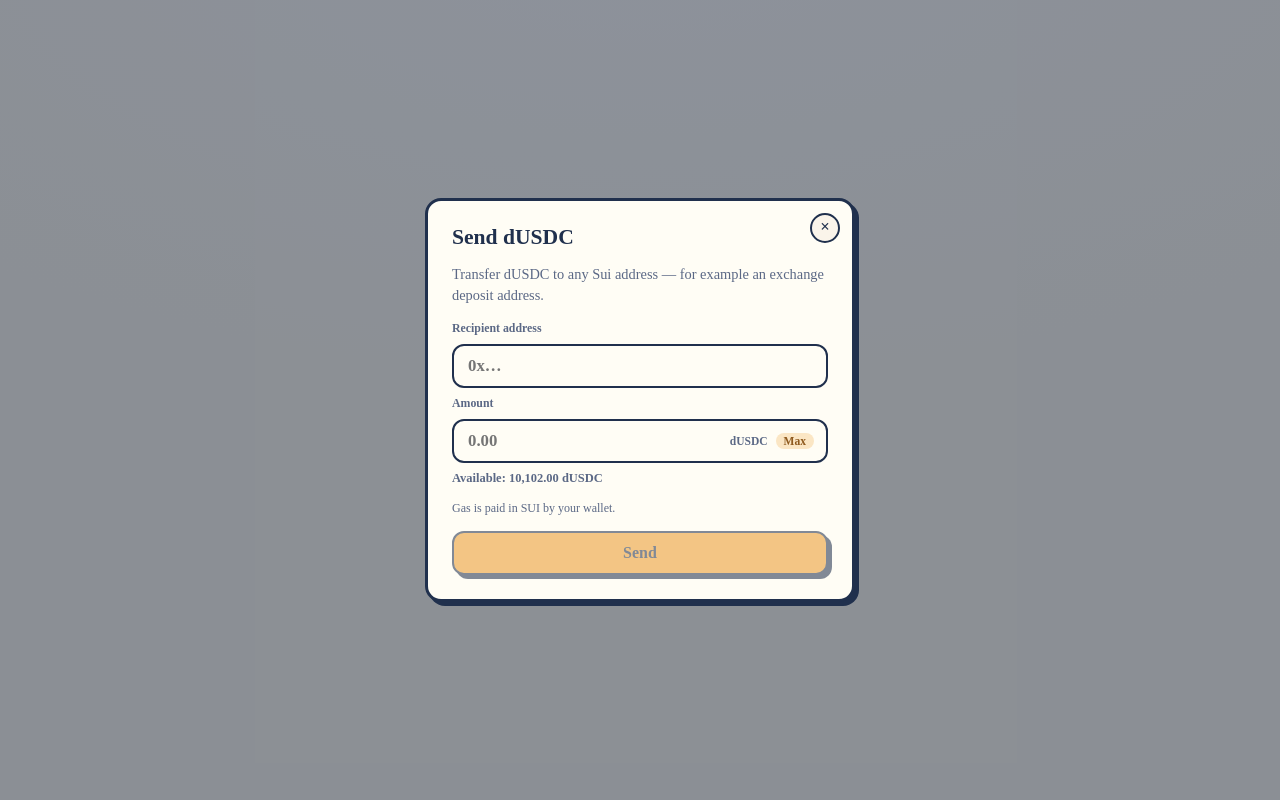
Scenario: SendDialog form › fills the exact Available balance via Max and via the balance hint
Click the button "Max" at x=795, y=441, box [776,433,814,449]
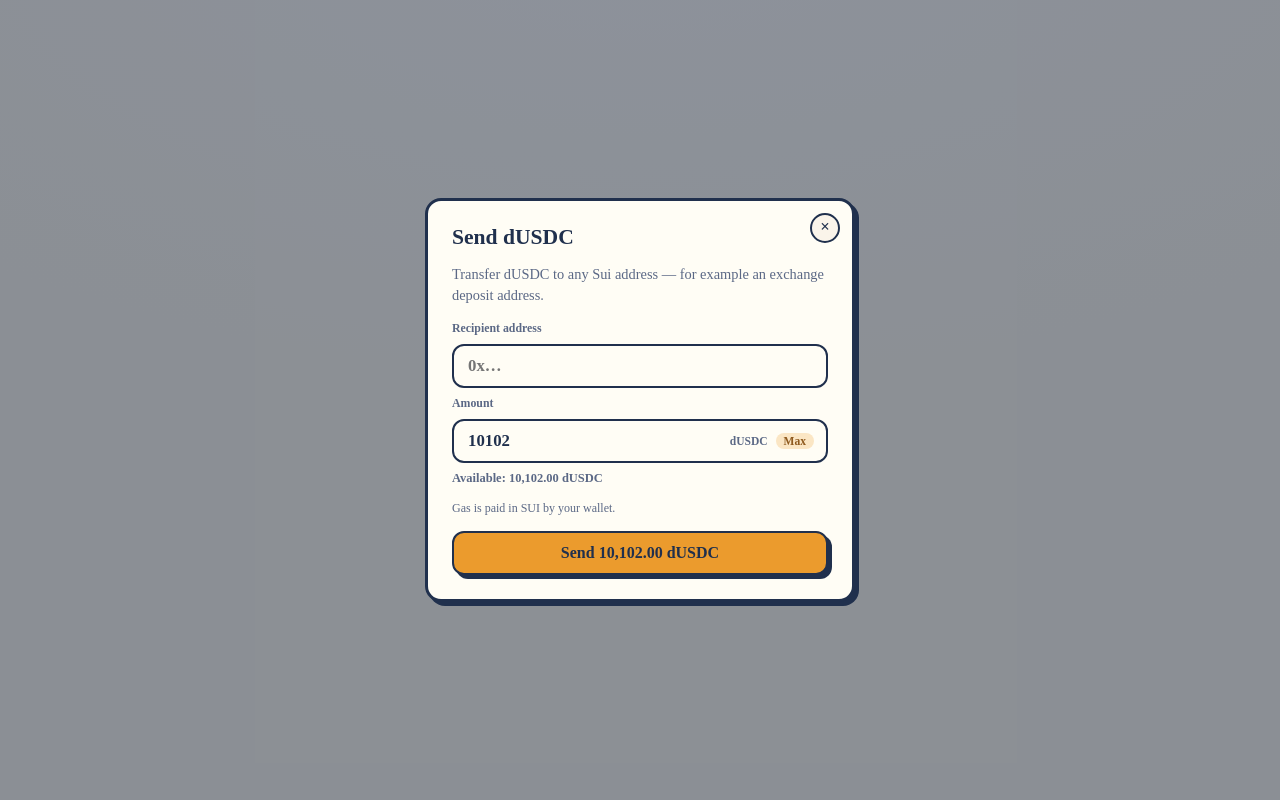
Now the field labelled "Amount dUSDC Max" holds "10102"
Clear the field labelled "Amount dUSDC Max" at x=595, y=441, box [466,430,724,452]
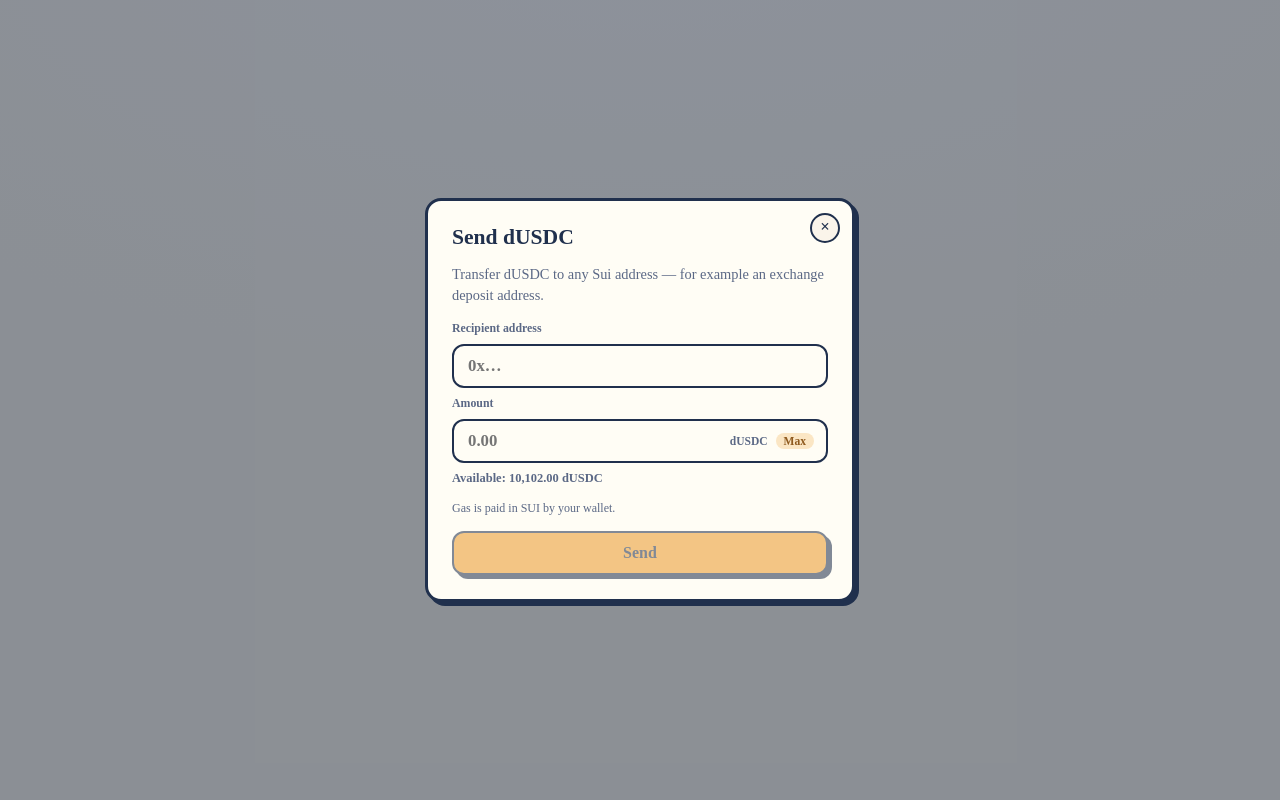
Click the button "Available: 10,102.00 dUSDC" at x=527, y=478, box [452,471,603,486]
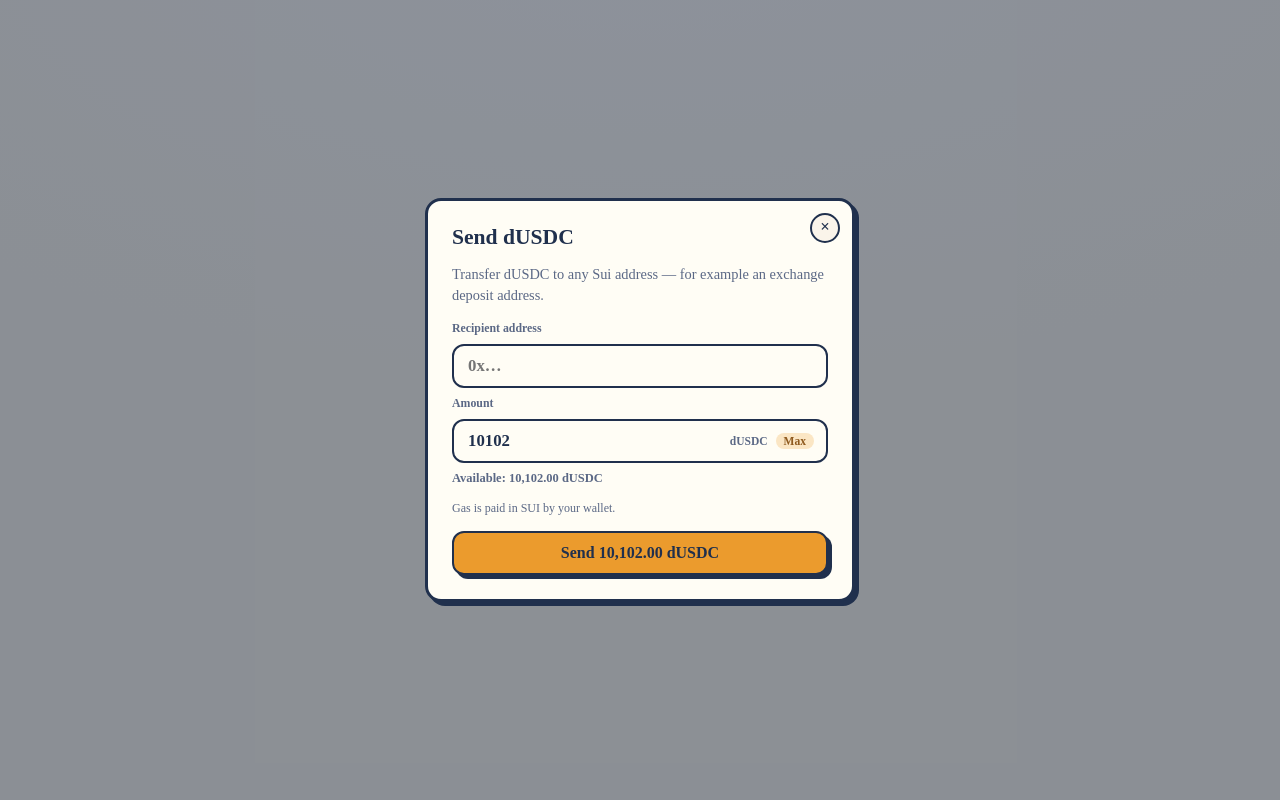
Now the field labelled "Amount dUSDC Max" holds "10102", box [466,430,724,452]
